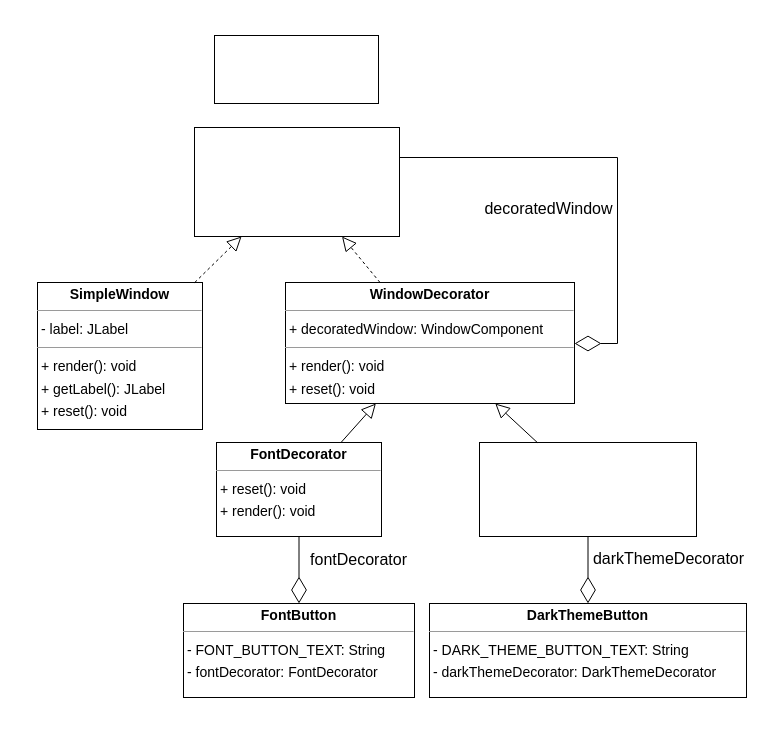
This 784x734 diagram has some shape labels left out. The centre of each missing label's shape, as x and y in pixels:
"<<interface>> WindowComponent + reset(): void + render(): void" belongs at point 297,181.
"DarkThemeDecorator + render(): void + reset(): void" belongs at point 587,489.
"Main + main(String[]): void" belongs at point 296,69.
